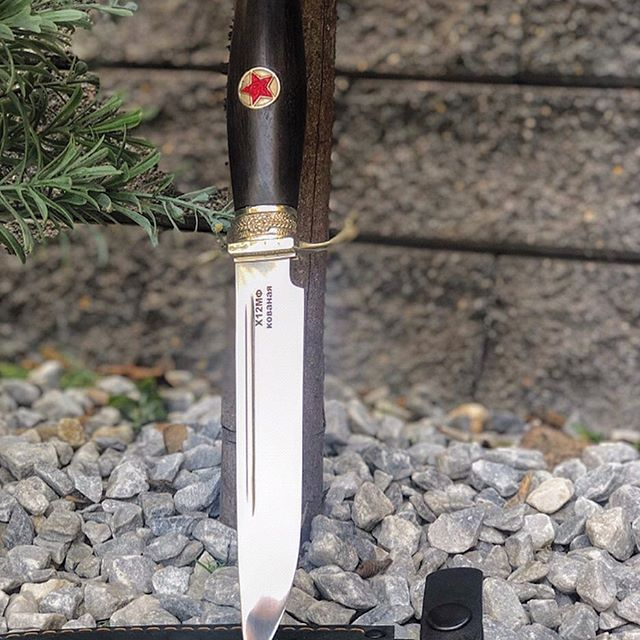knife: (227, 1, 305, 639)
